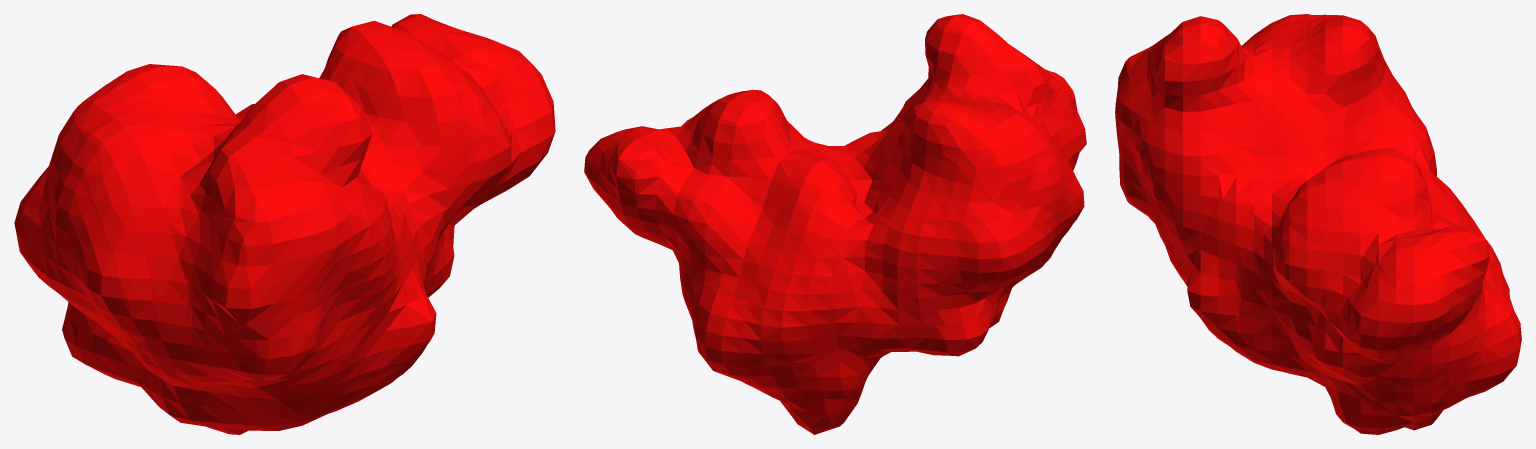
File: rfaY_coarse.dae
The picture shows the model from 3 angles, left to right: view 1: azimuth 30°, elevation 25°; view 2: azimuth 150°, elevation 25°; view 3: azimuth 270°, elevation 25°; orthographic projection. The views are drawn at different scales.
Visible parts, largest first — view 1: rfaY; view 2: rfaY; view 3: rfaY.
Boxes of the visible parts, x1,y1,x2,y2 form: rfaY: (14, 14, 555, 434); rfaY: (584, 14, 1086, 434); rfaY: (1115, 14, 1521, 434).
Size of the model in its own units: 65.24 by 52.82 by 50.63.
